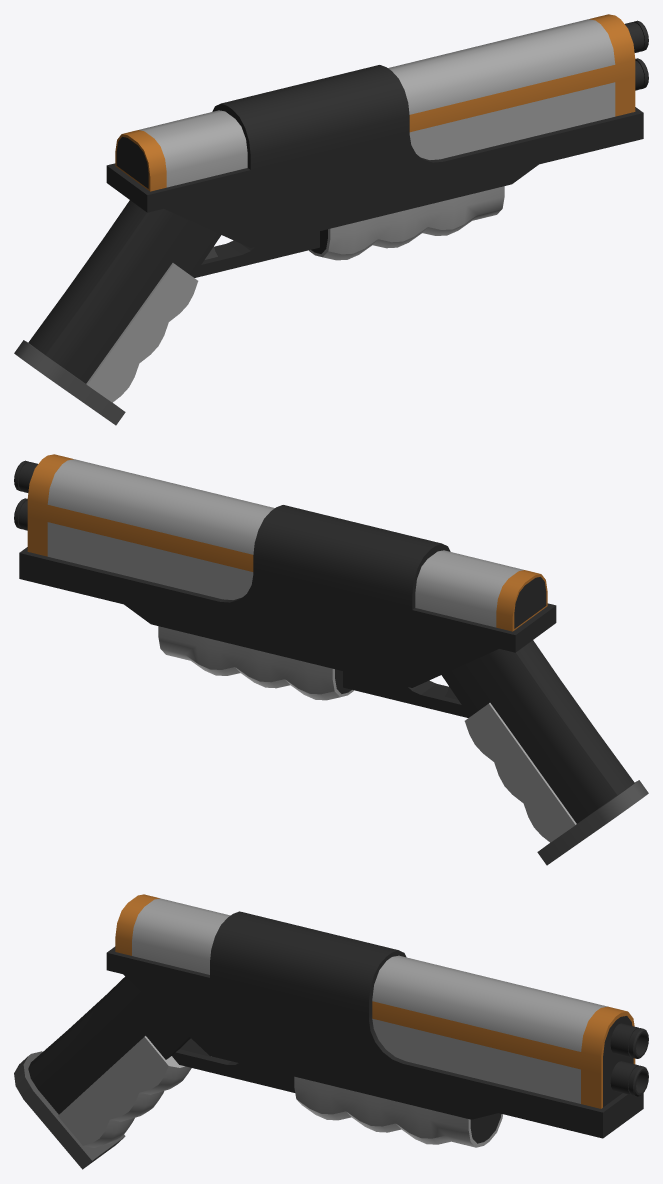
Rendered from Scifi Pistol.glb.
3 views of the same model, one above another, from view 1: azimuth 30°, elevation 25°; view 2: azimuth 150°, elevation 25°; view 3: azimuth 330°, elevation 25° (orthographic).
Parts seen in each view (by area): view 1: Pistol_2; view 2: Pistol_2; view 3: Pistol_2.
Part boxes in pixels (x1=…): Pistol_2: x1=14, y1=14, x2=648, y2=425; Pistol_2: x1=14, y1=454, x2=648, y2=865; Pistol_2: x1=14, y1=894, x2=648, y2=1169.
Size of the model in its own units: 0.9899 by 0.4161 by 0.1124.
